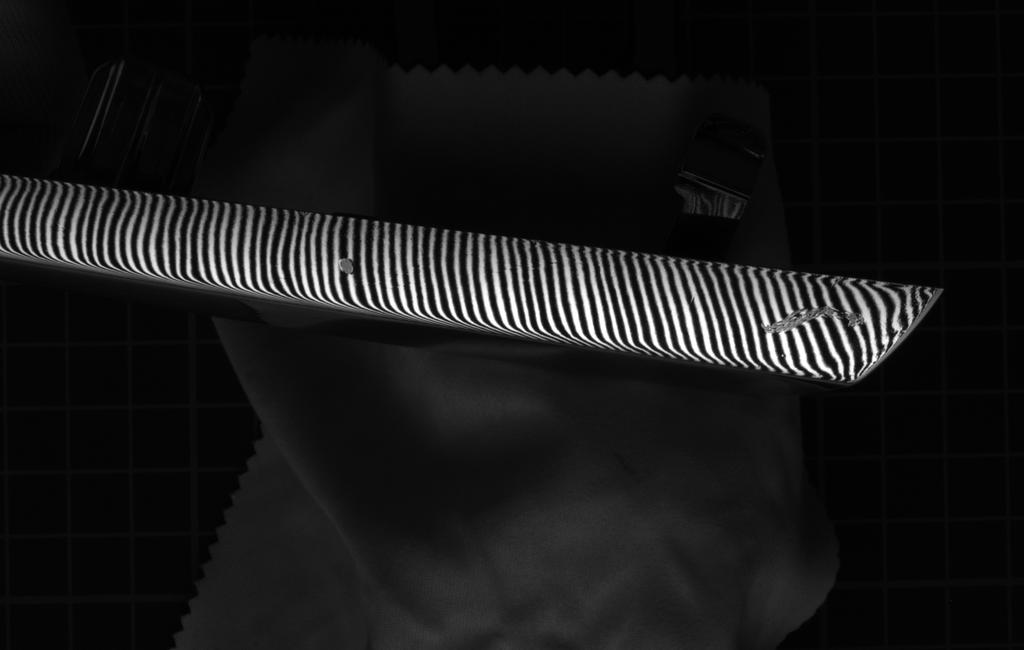Pierced: (330, 253, 366, 282)
Scratch: (754, 299, 867, 341)
